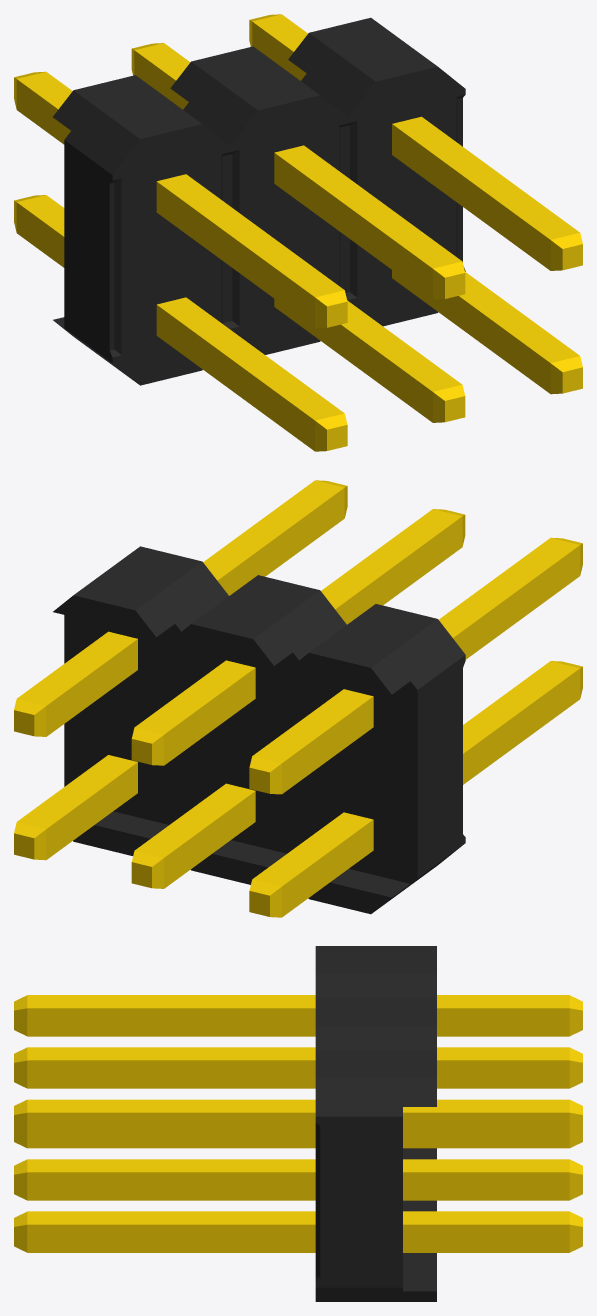
Rendered from PLD-6_(DS1021_CONNFLY).obj.
3 views of the same model, one above another, from view 1: azimuth 30°, elevation 25°; view 2: azimuth 150°, elevation 25°; view 3: azimuth 270°, elevation 25° (orthographic). The views are drawn at different scales.
Parts seen in each view (by area): view 1: PLD-6_(DS1021_CONNFLY); view 2: PLD-6_(DS1021_CONNFLY); view 3: PLD-6_(DS1021_CONNFLY).
Part boxes in pixels (x1=…): PLD-6_(DS1021_CONNFLY): x1=14, y1=14, x2=582, y2=451; PLD-6_(DS1021_CONNFLY): x1=14, y1=480, x2=582, y2=917; PLD-6_(DS1021_CONNFLY): x1=14, y1=946, x2=582, y2=1301.
Size of the model in its own units: 0.0189 by 0.0126 by 0.029.
